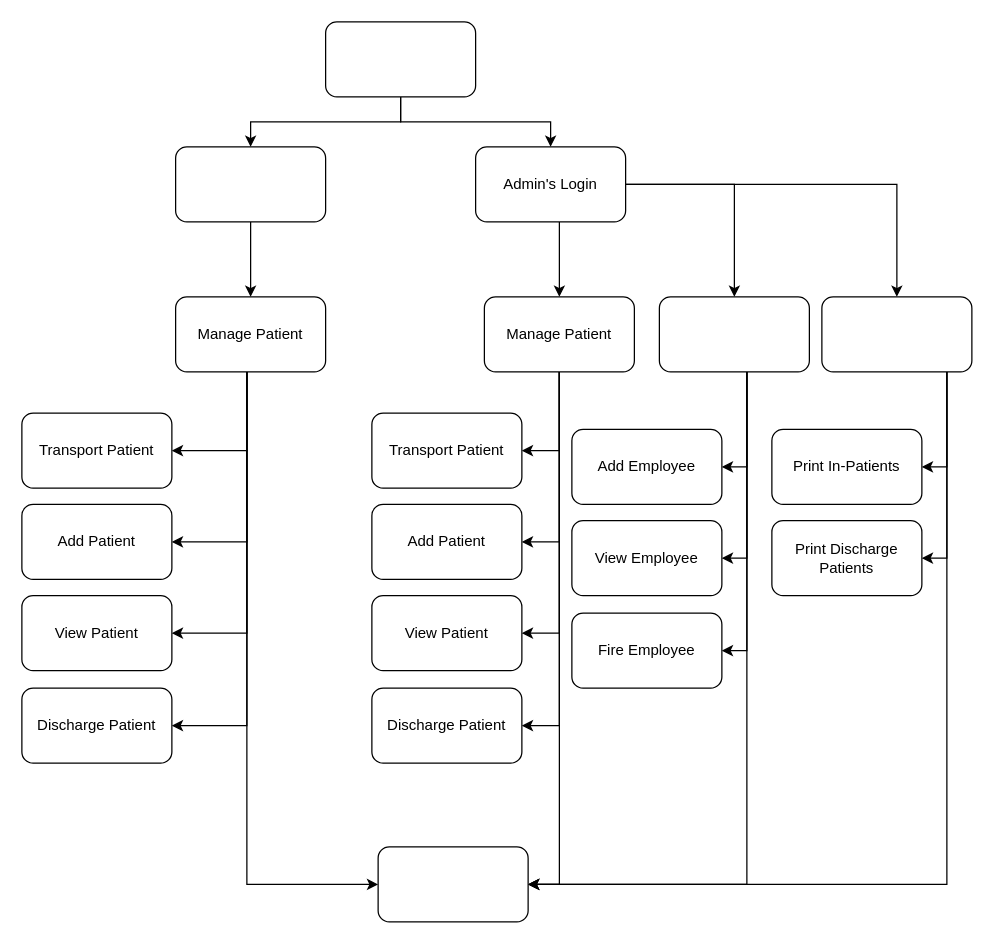
Image size: 994x944. Some labels were removed from this diagram. The centre of each missing label's shape, as x and y in pixels:
"Doctor's Login" belongs at (x=250, y=184).
"Home" belongs at (x=400, y=59).
"Log Out" belongs at (x=452, y=884).
"Manage Employee" belongs at (x=733, y=334).
"Reports" belongs at (x=896, y=334).
